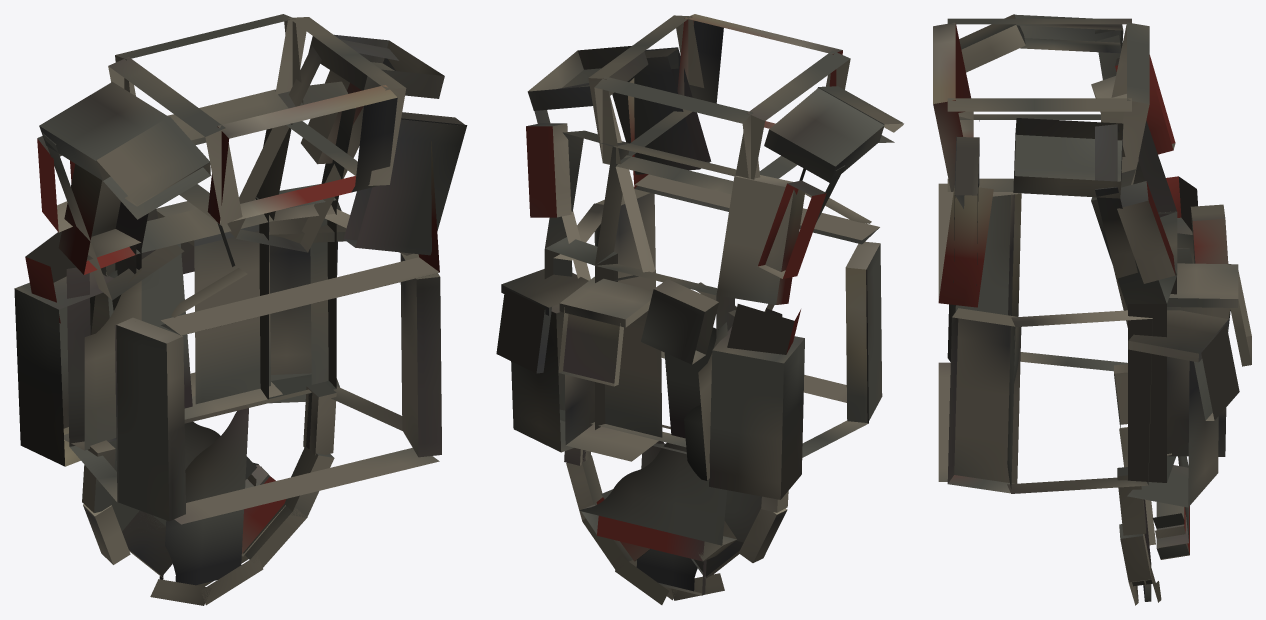
The model's file is ratnik_mobilized.obj.
The picture shows the model from 3 angles, left to right: view 1: azimuth 30°, elevation 25°; view 2: azimuth 150°, elevation 25°; view 3: azimuth 270°, elevation 25°; orthographic projection. The views are drawn at different scales.
Parts seen in each view (by area): view 1: mesh; view 2: mesh; view 3: mesh.
Part boxes in pixels (<box>): mesh: <box>14,14,467,605</box>; mesh: <box>496,14,903,604</box>; mesh: <box>933,14,1251,605</box>.
Size of the model in its own units: 0.7271 by 1.13 by 0.6052.
